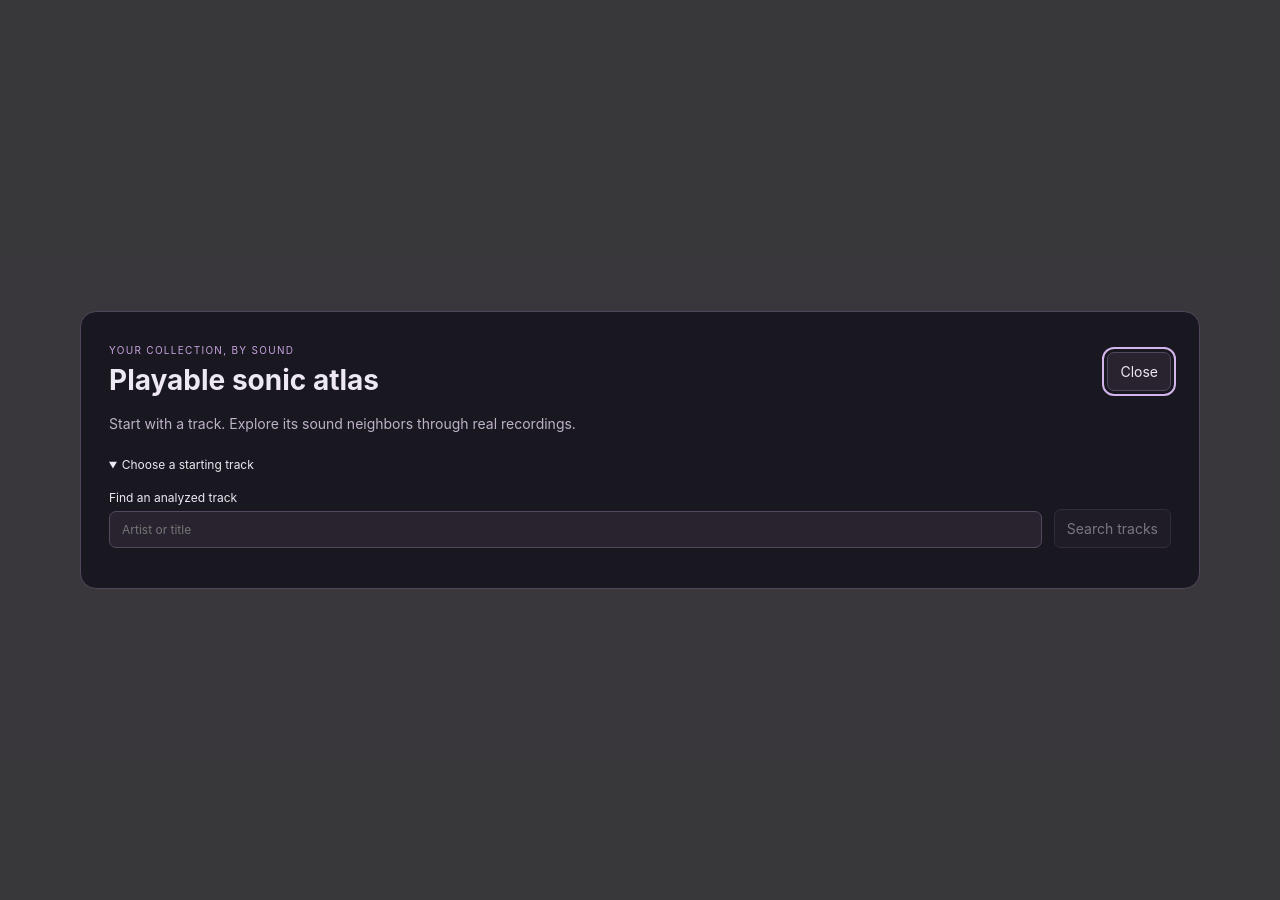
Test: searches analyzed tracks and opens the chosen neighborhood
Step 1. Type "Artist" into the field labelled "Find an analyzed track" → (575, 530), box [109, 511, 1042, 548]
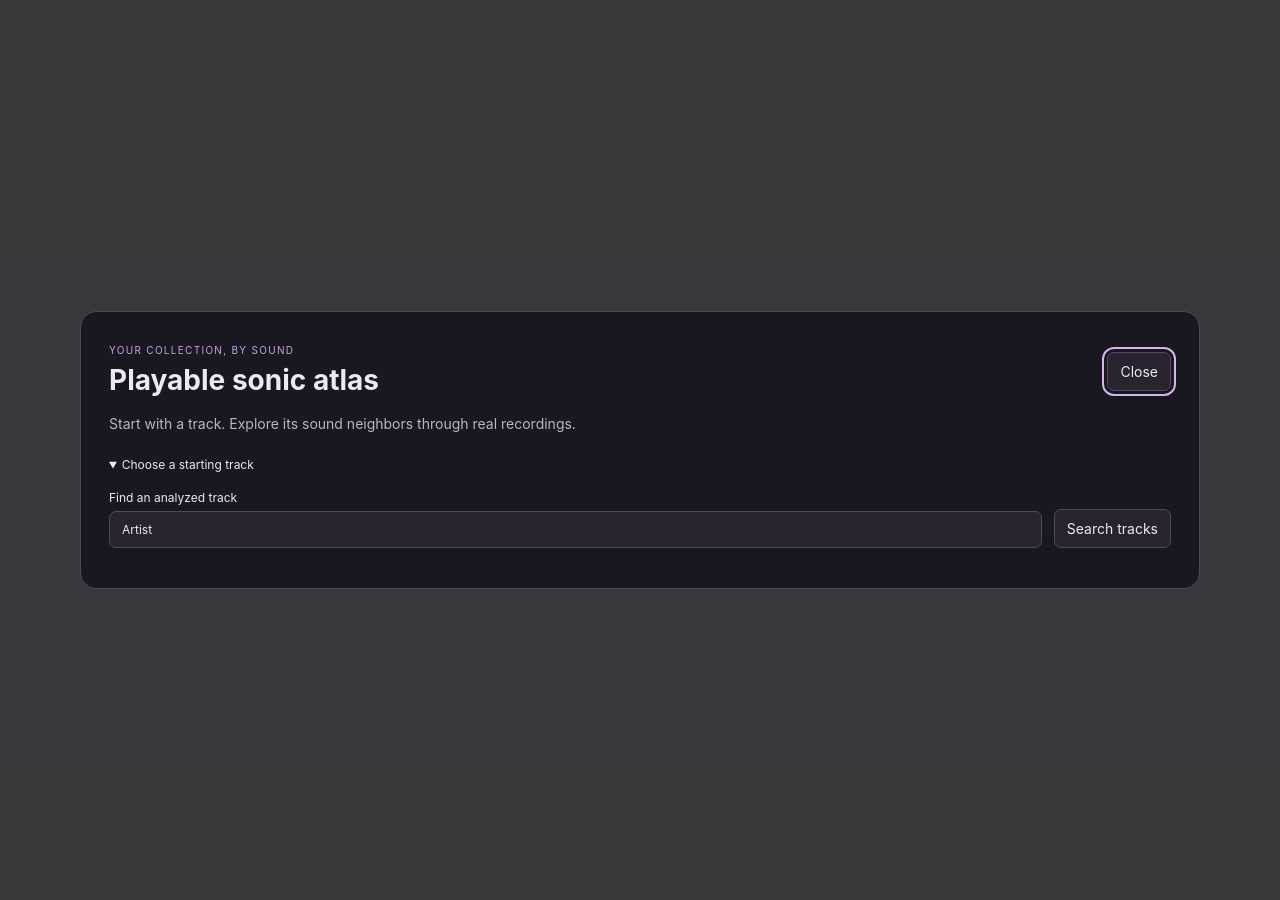
Step 2. Click the button "Search tracks" → (1112, 529), box [1054, 509, 1171, 548]
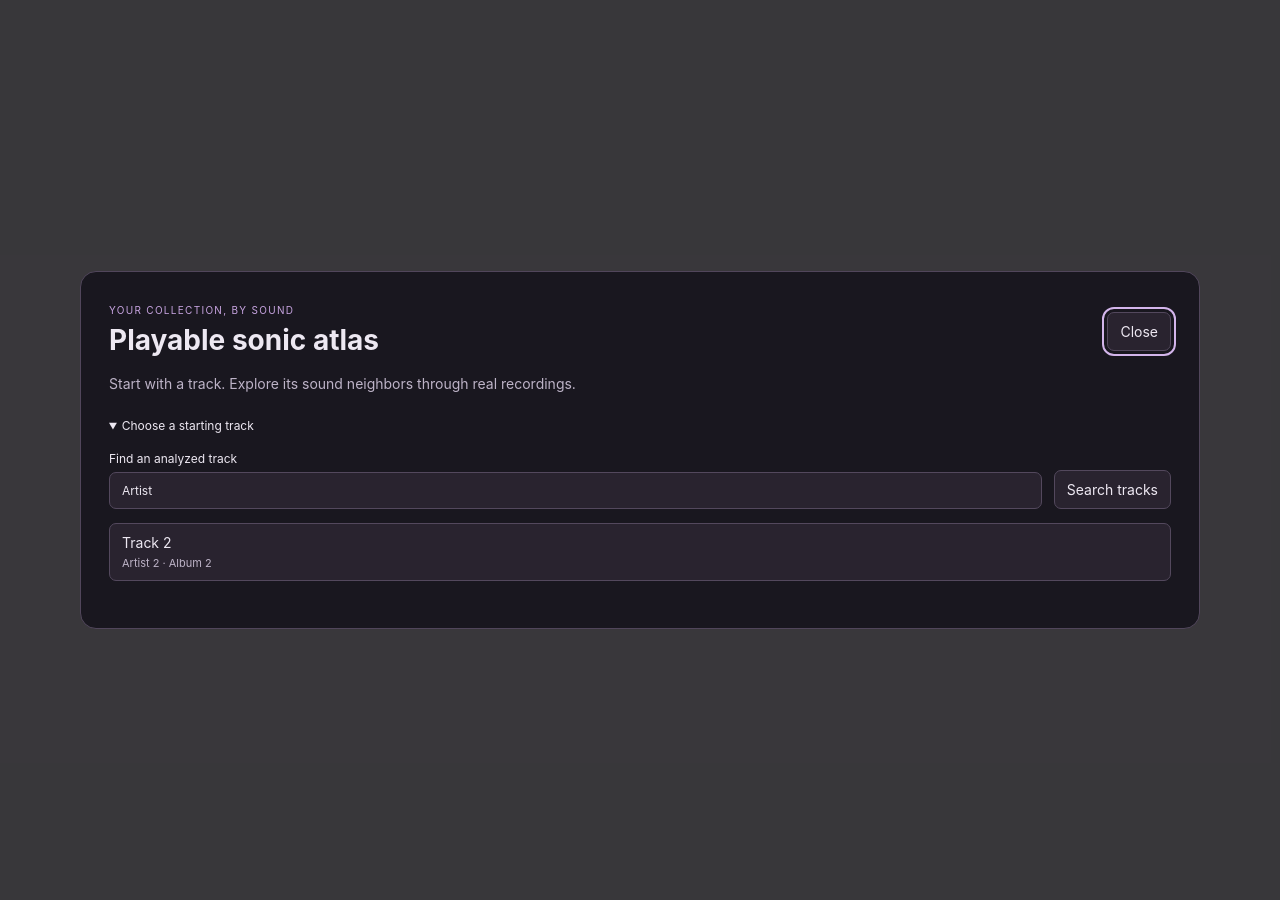
Step 3. Click the button "Track 2 Artist 2 · Album 2" → (147, 542), box [109, 523, 1171, 581]
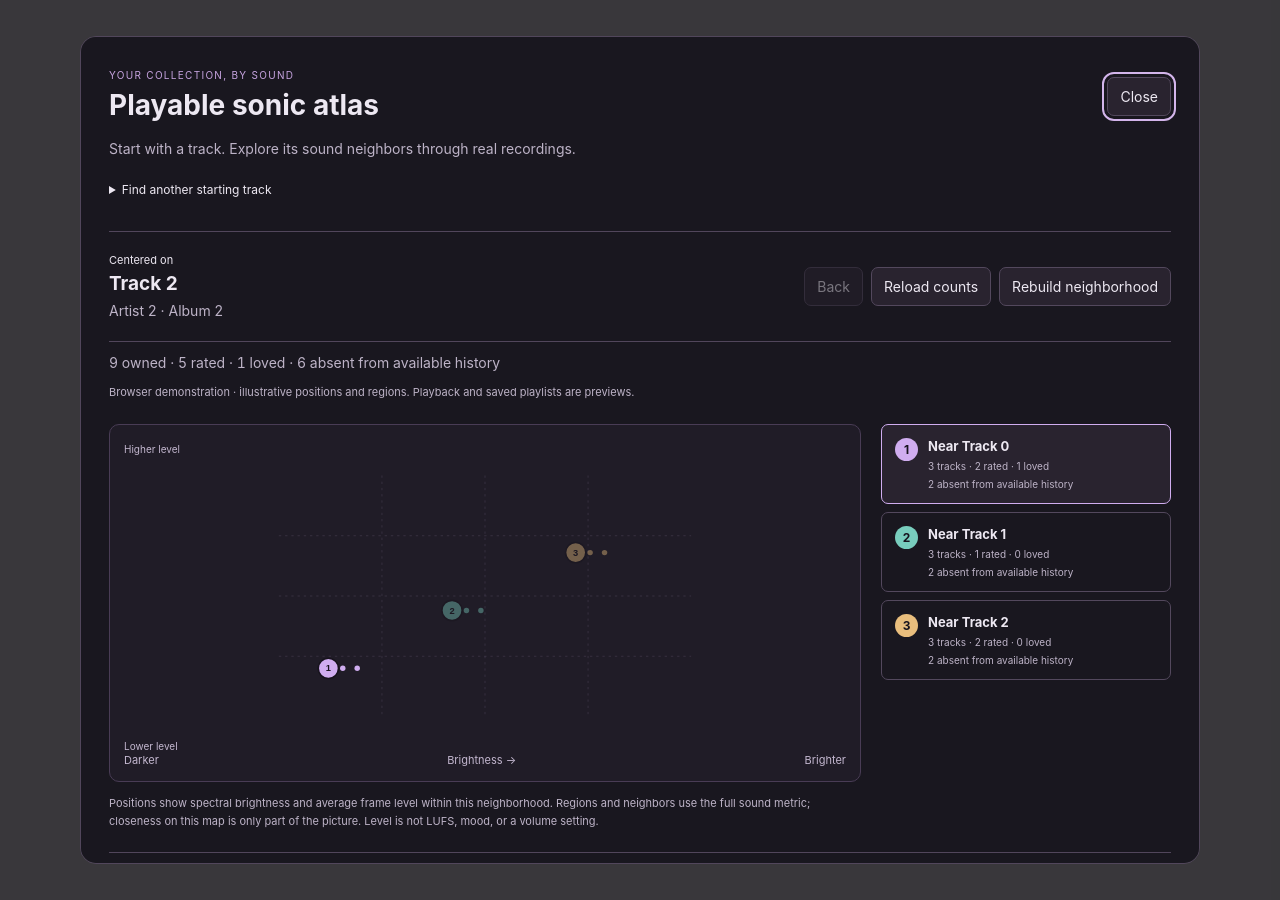
Check: the navigation bar named "Sound regions" is shown, box [881, 424, 1171, 830]
